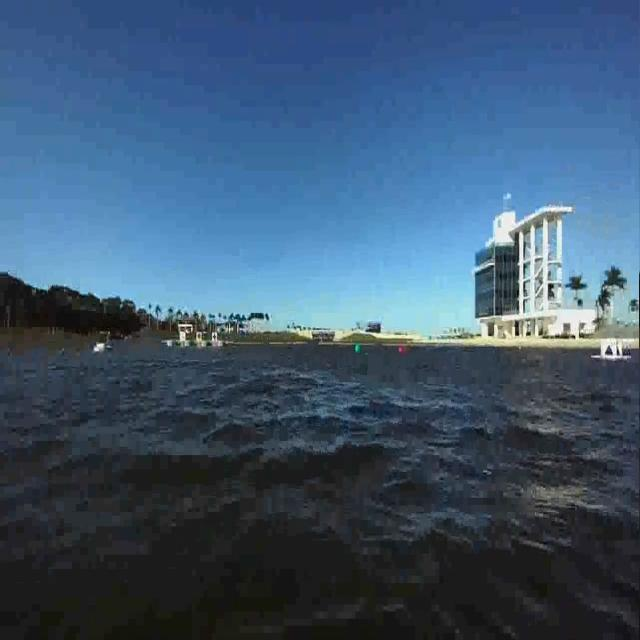green-buoy: (354, 344, 362, 356)
